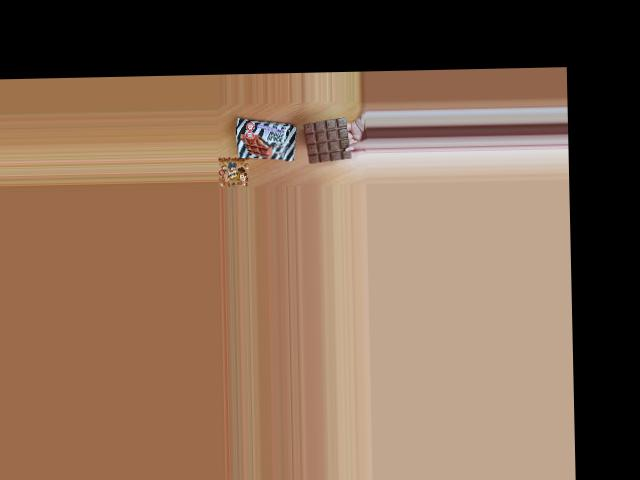chocolate: (232, 117, 299, 160)
